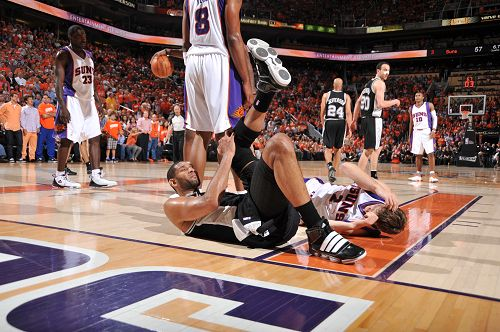10+: (1, 4, 500, 332)
down: (162, 138, 370, 264), (296, 159, 410, 238)
